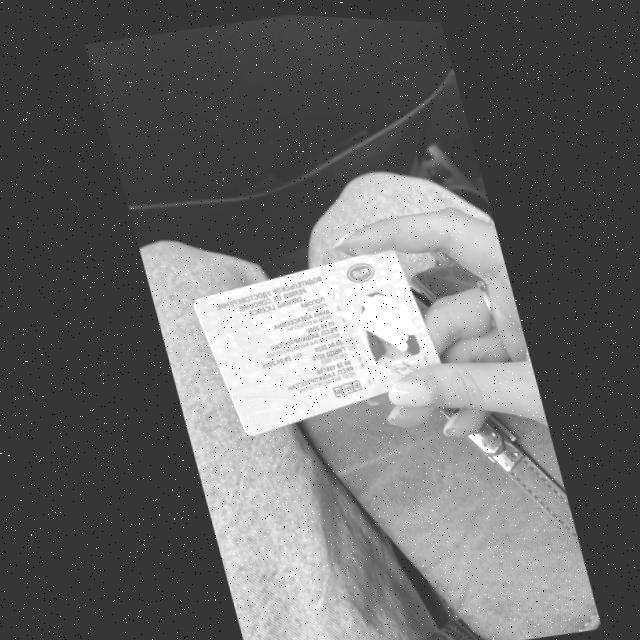card: (194, 251, 439, 435)
